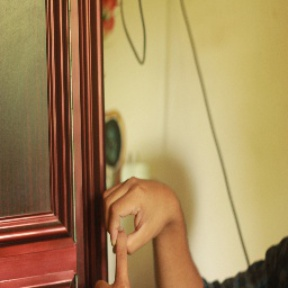Q: (87, 173, 185, 288)
